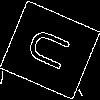U: (25, 25, 80, 76)
